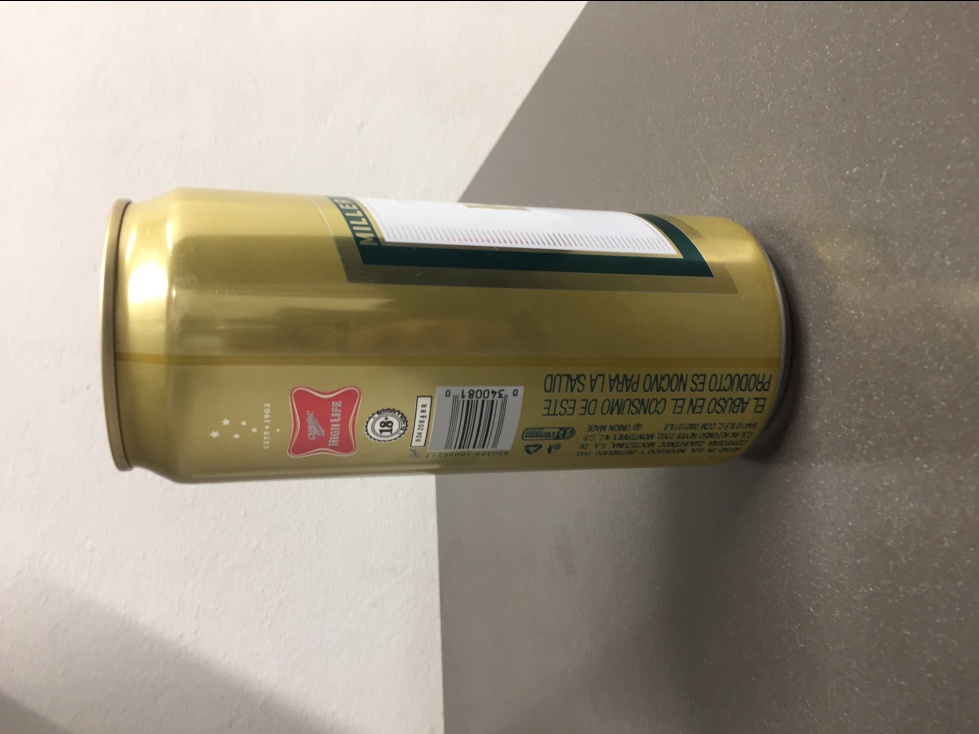miller: (96, 179, 799, 486)
